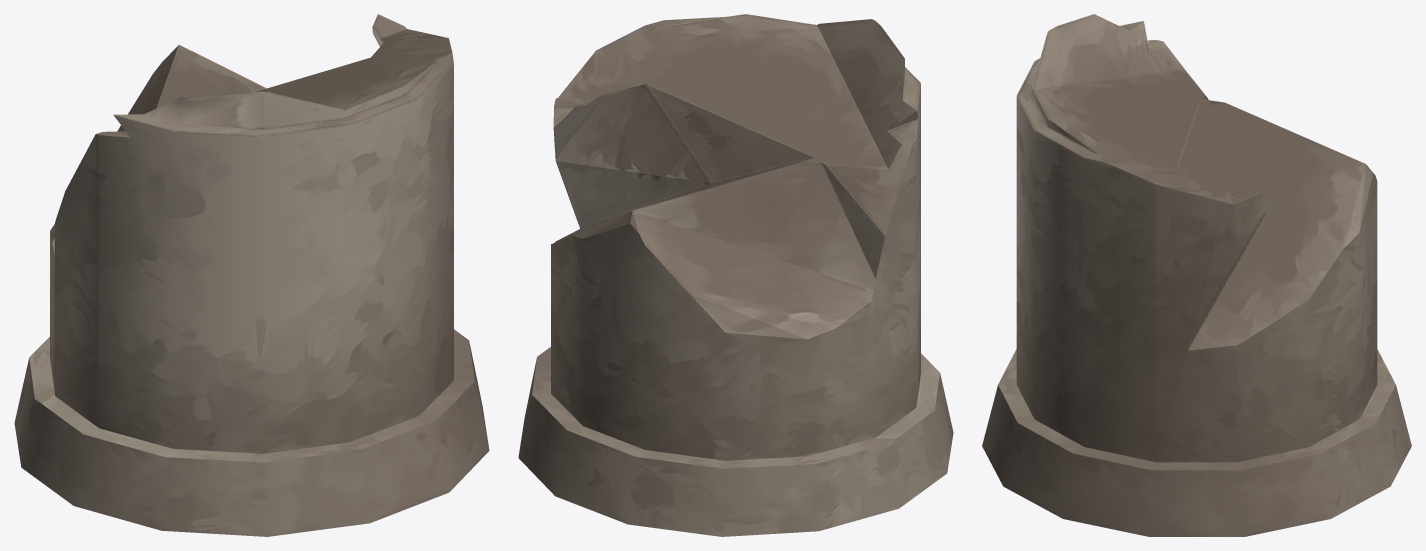
Rendered from kolumna_podstawa.obj.
3 renders of one model, left to right at view 1: azimuth 30°, elevation 25°; view 2: azimuth 150°, elevation 25°; view 3: azimuth 270°, elevation 25°, orthographic. The views are drawn at different scales.
Parts seen in each view (by area): view 1: Cylinder.005; view 2: Cylinder.005; view 3: Cylinder.005.
Part boxes in pixels (x1=…): Cylinder.005: x1=14, y1=14, x2=489, y2=536; Cylinder.005: x1=518, y1=14, x2=953, y2=536; Cylinder.005: x1=982, y1=14, x2=1411, y2=536.
Bounding box in the file's own units: 6.2 × 6.11 × 6.2.
1 material, 1 textured.
